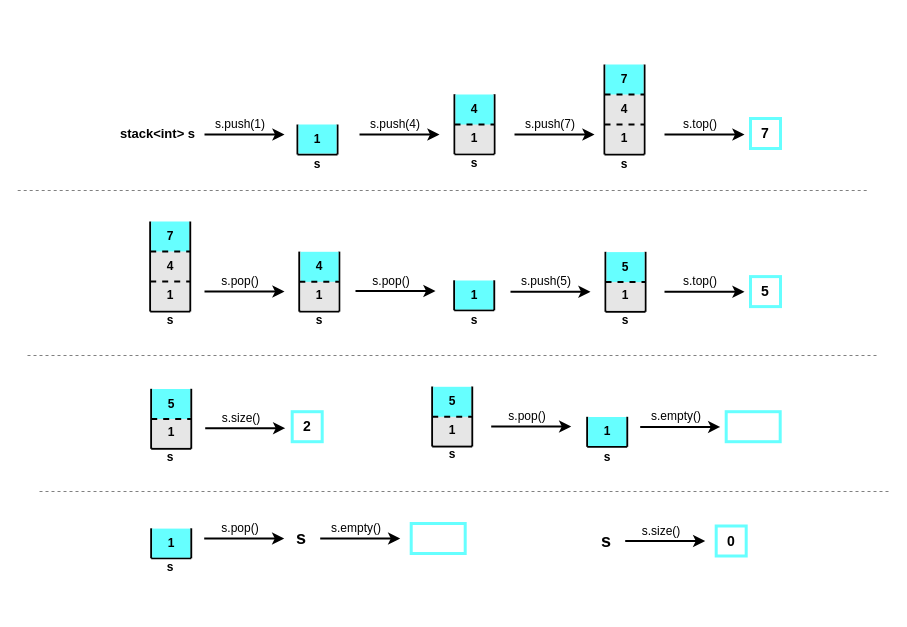
The diagram is 907 pixels wide and 627 high, and some of its shapes have lost their labels. Each missing label, with the centre of its shape:
"false" goes at pixel 752 426.
"true" goes at pixel 437 538.
